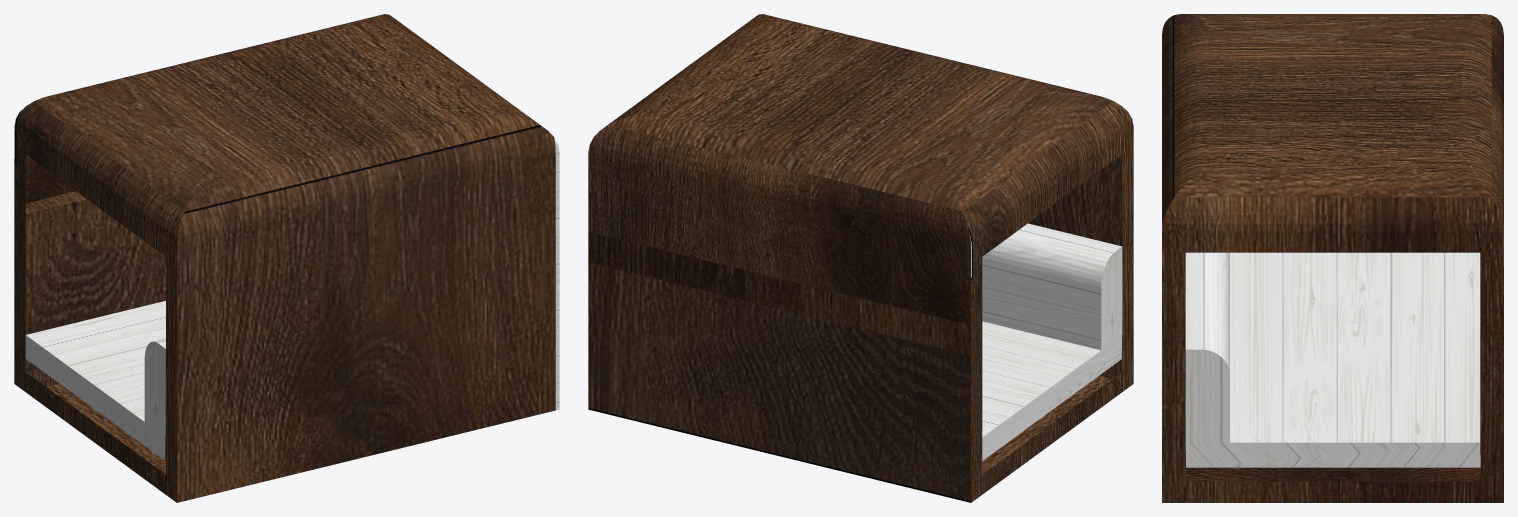
Rendered from lunarBed.fbx.
3 renders of one model, left to right at view 1: azimuth 30°, elevation 25°; view 2: azimuth 150°, elevation 25°; view 3: azimuth 270°, elevation 25°, orthographic. The views are drawn at different scales.
Visible parts, largest first — view 1: Cube.001; view 2: Cube.001; view 3: Cube.001.
Boxes of the visible parts, bbox=[...] form: Cube.001: bbox=[14, 14, 559, 502]; Cube.001: bbox=[588, 14, 1133, 502]; Cube.001: bbox=[1162, 14, 1503, 502].
Size of the model in its own units: 2.72 by 2 by 2.
Materials: 1 (1 with a texture image).
